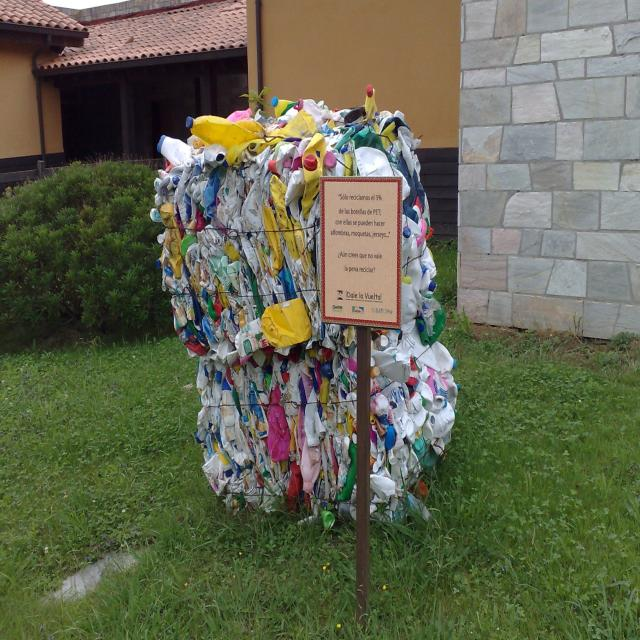plastic: (189, 165, 319, 480)
